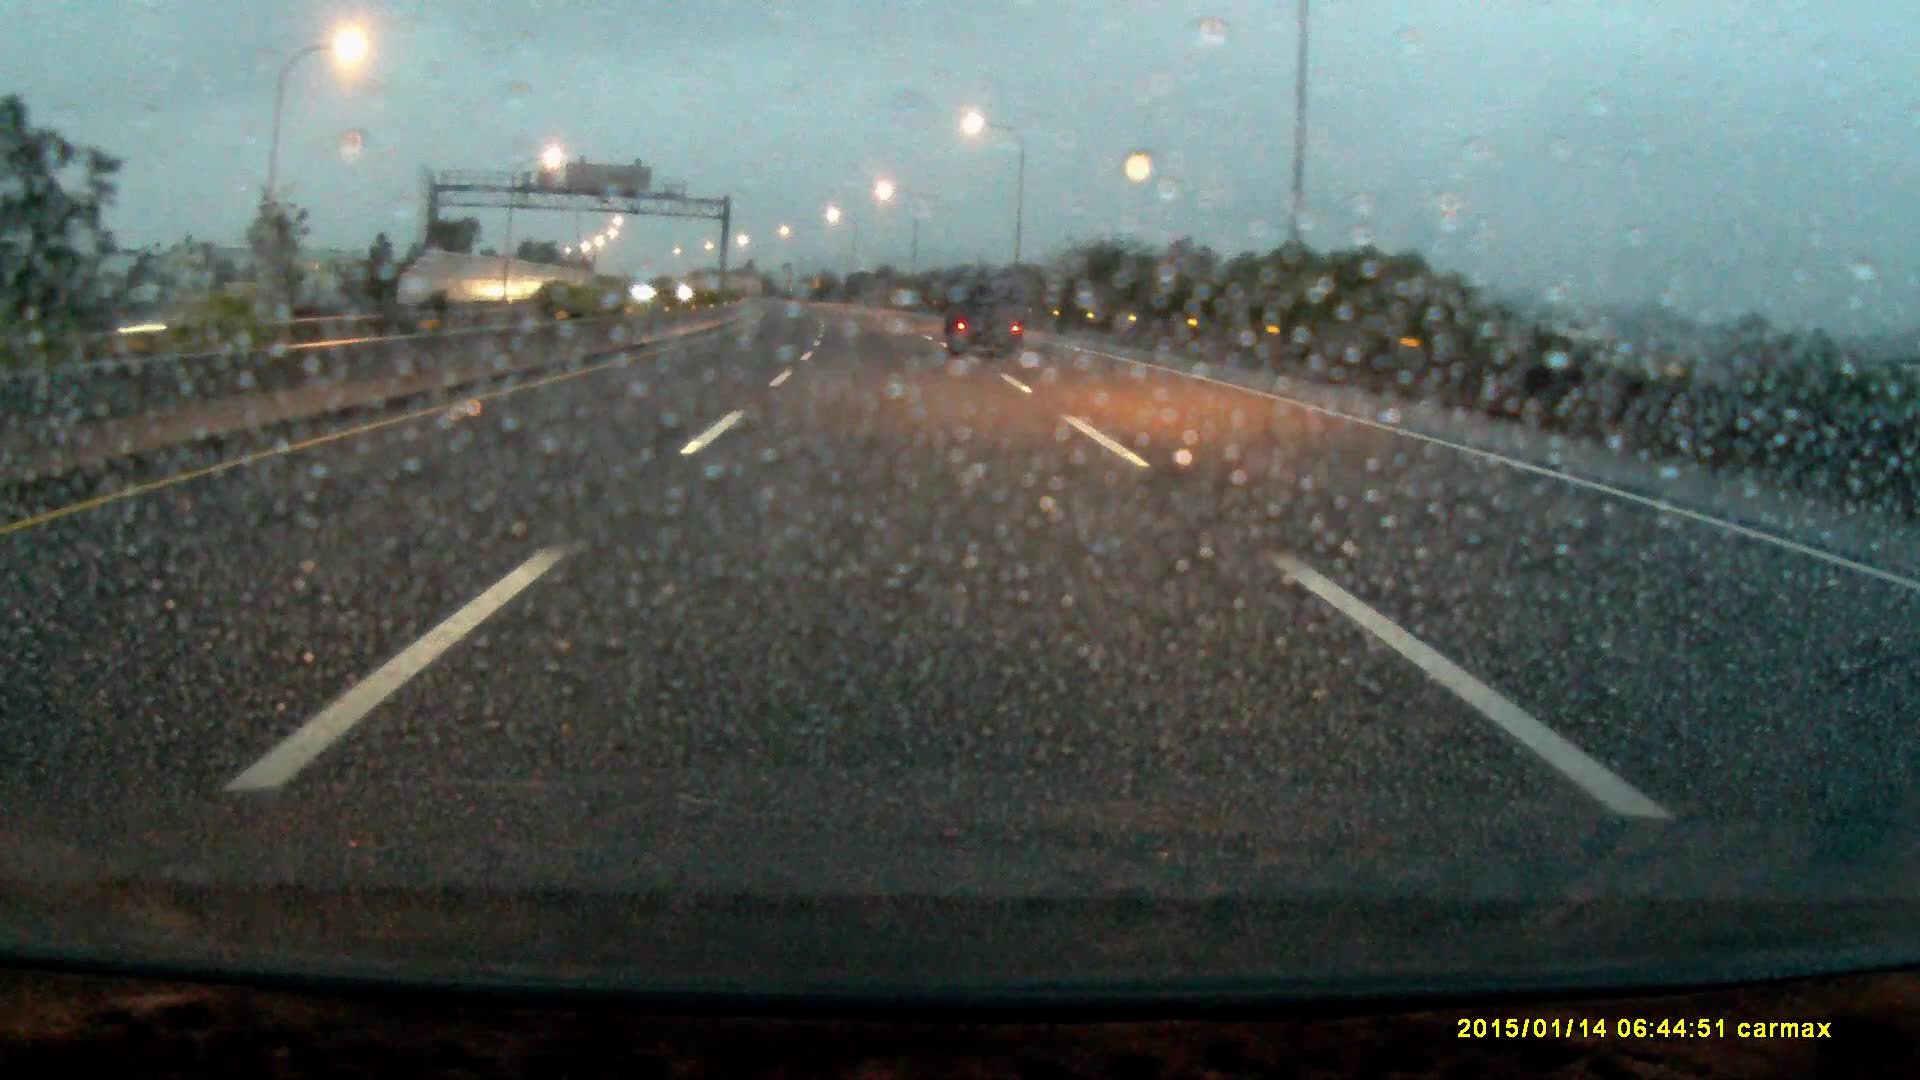vehicle: (942, 272, 1027, 359)
